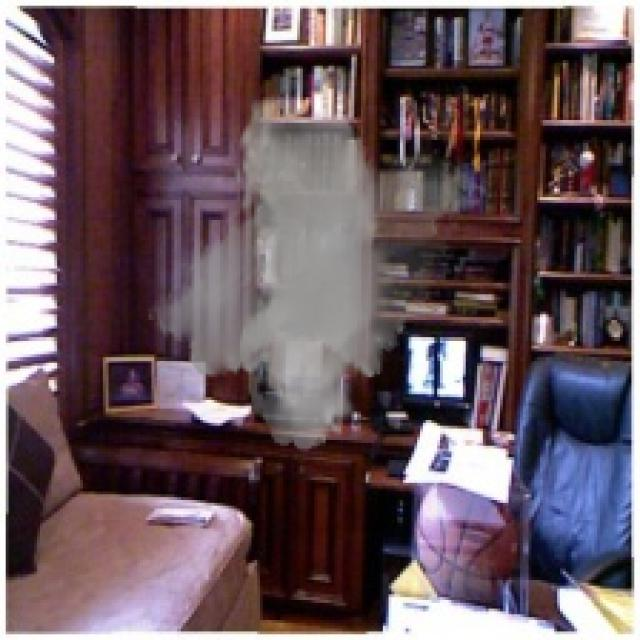smoke: (146, 94, 488, 452)
